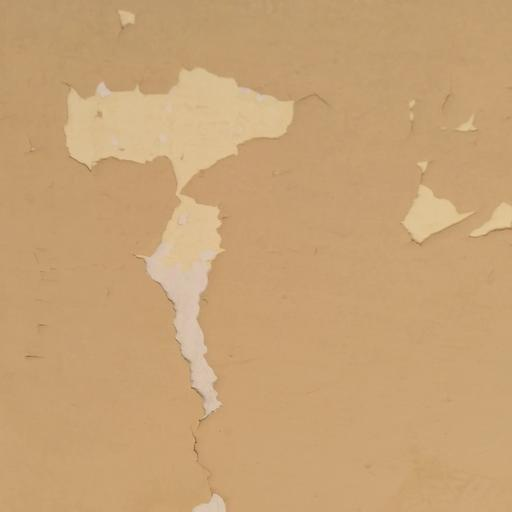peeling: (47, 46, 306, 453), (389, 76, 512, 268), (177, 470, 270, 512), (119, 0, 140, 34)
